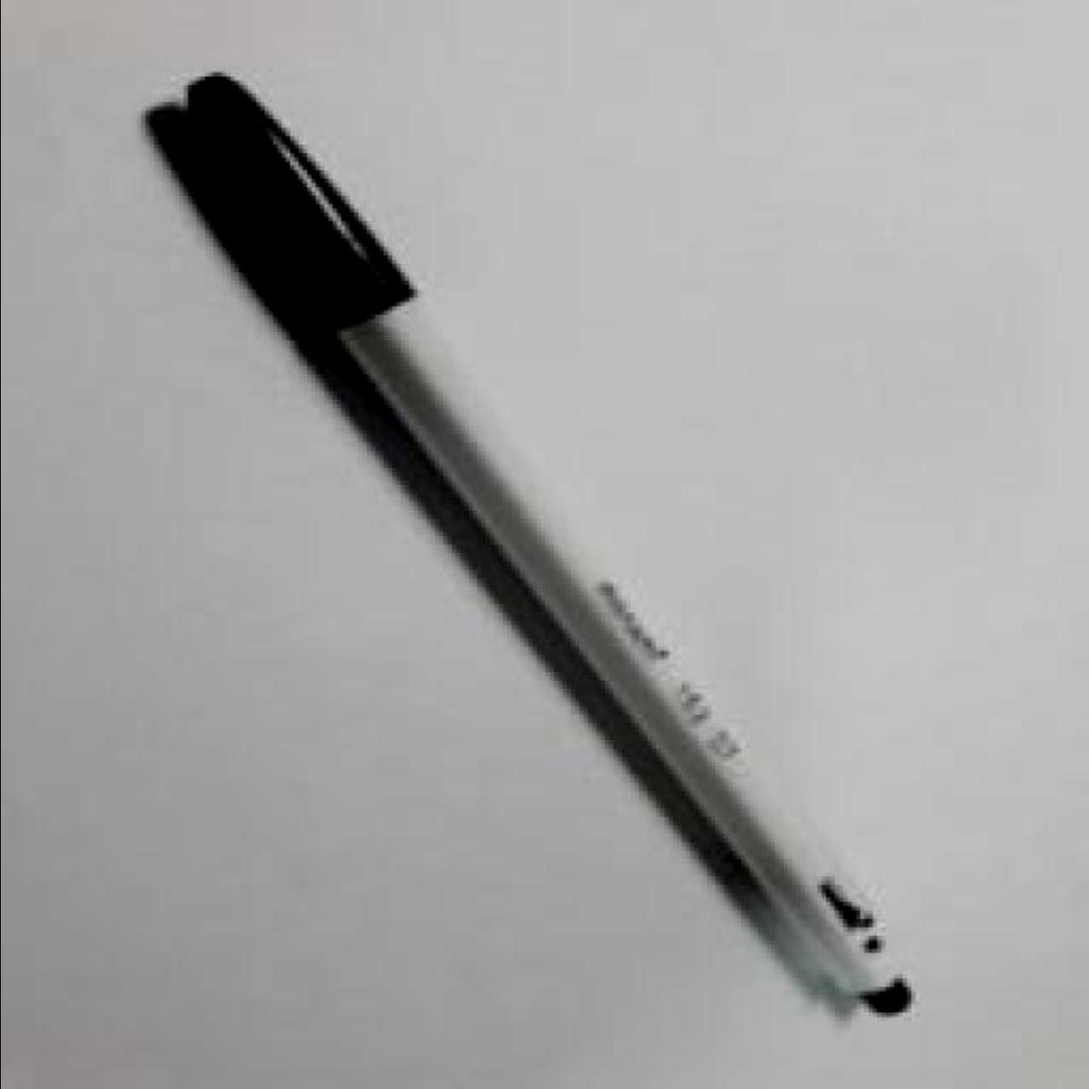pen: (179, 77, 919, 1021)
